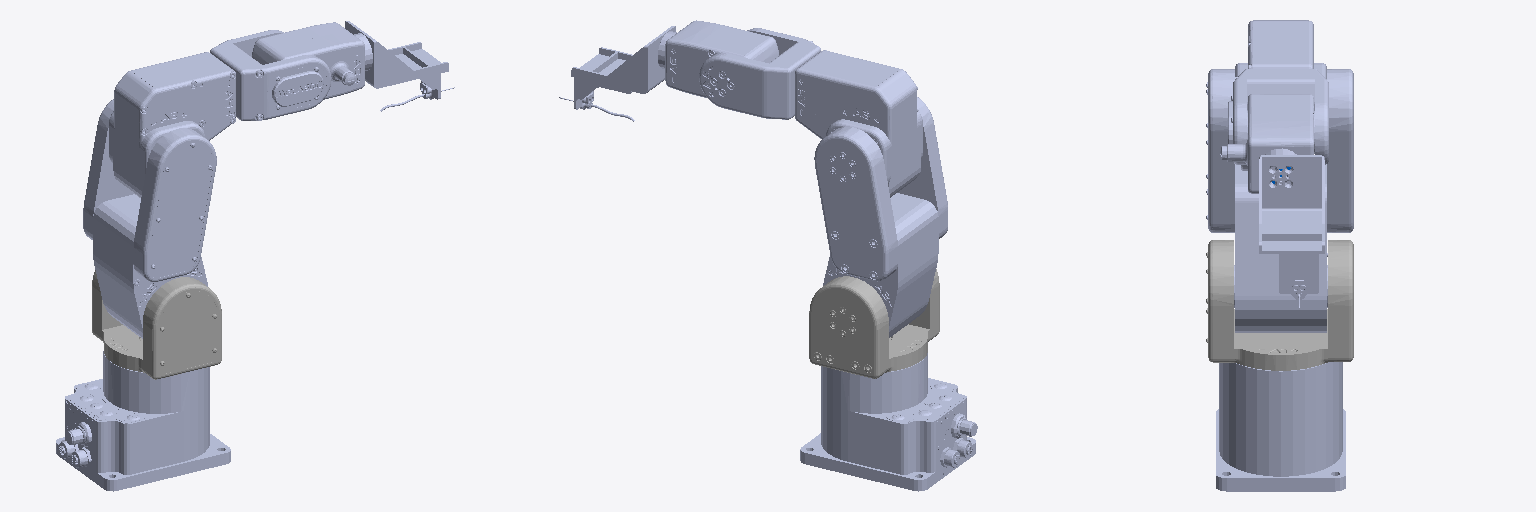
URDF robot description (Meca_500_urdf-R2):
<?xml version="1.0" encoding="utf-8"?>
<!-- This URDF was automatically created by SolidWorks to URDF Exporter! Originally created by [author] ([email redacted]) 
     Commit Version: 1.6.0-4-g7f85cfe  Build Version: 1.6.7995.38578
     For more information, please see http://wiki.ros.org/sw_urdf_exporter -->
<robot
  name="Meca_500_urdf-R2">
  <link
    name="base_link">
    <inertial>
      <origin
        xyz="-0.0109725926516317 -3.46278567973224E-05 0.0406988742963083"
        rpy="0 0 0" />
      <mass
        value="0.679568964786532" />
      <inertia
        ixx="0.000791499105710204"
        ixy="-1.53445323469656E-06"
        ixz="-9.63525565936512E-05"
        iyy="0.00102263165745737"
        iyz="-8.71161209217454E-08"
        izz="0.000929221686108281" />
    </inertial>
    <visual>
      <origin
        xyz="0 0 0"
        rpy="0 0 0" />
      <geometry>
        <mesh
          filename="package://Meca_500_urdf-R2/meshes/base_link.STL" />
      </geometry>
      <material
        name="">
        <color
          rgba="0.792156862745098 0.819607843137255 0.933333333333333 1" />
      </material>
    </visual>
    <collision>
      <origin
        xyz="0 0 0"
        rpy="0 0 0" />
      <geometry>
        <mesh
          filename="package://Meca_500_urdf-R2/meshes/base_link.STL" />
      </geometry>
    </collision>
  </link>
  <link
    name="Joint 1">
    <inertial>
      <origin
        xyz="2.59955725218788E-07 0.0450294391279362 0.0425774807786145"
        rpy="0 0 0" />
      <mass
        value="3.11068100178968E-05" />
      <inertia
        ixx="4.26029818725007E-11"
        ixy="7.2157560582102E-15"
        ixz="-1.23495683143256E-15"
        iyy="5.71232812132584E-11"
        iyz="5.68938761738752E-16"
        izz="4.26011049884299E-11" />
    </inertial>
    <visual>
      <origin
        xyz="0 0 0"
        rpy="0 0 0" />
      <geometry>
        <mesh
          filename="package://Meca_500_urdf-R2/meshes/Joint 1.STL" />
      </geometry>
      <material
        name="">
        <color
          rgba="0.749019607843137 0.749019607843137 0.749019607843137 1" />
      </material>
    </visual>
    <collision>
      <origin
        xyz="0 0 0"
        rpy="0 0 0" />
      <geometry>
        <mesh
          filename="package://Meca_500_urdf-R2/meshes/Joint 1.STL" />
      </geometry>
    </collision>
  </link>
  <joint
    name="joint1"
    type="revolute">
    <origin
      xyz="0 0 0.09"
      rpy="0 0 0" />
    <parent
      link="base_link" />
    <child
      link="Joint 1" />
    <axis
      xyz="0 0 -1" />
    <limit
      lower="-3.054"
      upper="3.054"
      effort="8"
      velocity="2.62" />
  </joint>
  <link
    name="joint 2">
    <inertial>
      <origin
        xyz="4.45170865147998E-07 -0.134998467546097 0.0468908327323897"
        rpy="0 0 0" />
      <mass
        value="1.04498871300878E-06" />
      <inertia
        ixx="1.26193540310527E-12"
        ixy="2.27190794086569E-15"
        ixz="2.04571838642606E-17"
        iyy="1.27062997059495E-12"
        iyz="6.77569314255402E-17"
        izz="2.52652987744516E-12" />
    </inertial>
    <visual>
      <origin
        xyz="0 0 0"
        rpy="0 0 0" />
      <geometry>
        <mesh
          filename="package://Meca_500_urdf-R2/meshes/joint 2.STL" />
      </geometry>
      <material
        name="">
        <color
          rgba="0.792156862745098 0.819607843137255 0.933333333333333 1" />
      </material>
    </visual>
    <collision>
      <origin
        xyz="0 0 0"
        rpy="0 0 0" />
      <geometry>
        <mesh
          filename="package://Meca_500_urdf-R2/meshes/joint 2.STL" />
      </geometry>
    </collision>
  </link>
  <joint
    name="joint2"
    type="revolute">
    <origin
      xyz="0 0 0.045"
      rpy="-1.5707963267949 0 0" />
    <parent
      link="Joint 1" />
    <child
      link="joint 2" />
    <axis
      xyz="0.0042014780162664 0 -0.999991173752288" />
    <limit
      lower="-1.221"
      upper="1.57"
      effort="8"
      velocity="2.62" />
  </joint>
  <link
    name="joint 3">
    <inertial>
      <origin
        xyz="0.0135354032001702 0.00944289577089366 -0.000217016596164697"
        rpy="0 0 0" />
      <mass
        value="0.374066907571865" />
      <inertia
        ixx="0.000286509634935843"
        ixy="-7.47439512312064E-05"
        ixz="-4.0271121494669E-06"
        iyy="0.000366719487688141"
        iyz="-8.36688974073381E-07"
        izz="0.000467308668091846" />
    </inertial>
    <visual>
      <origin
        xyz="0 0 0"
        rpy="0 0 0" />
      <geometry>
        <mesh
          filename="package://Meca_500_urdf-R2/meshes/joint 3.STL" />
      </geometry>
      <material
        name="">
        <color
          rgba="0.792156862745098 0.819607843137255 0.933333333333333 1" />
      </material>
    </visual>
    <collision>
      <origin
        xyz="0 0 0"
        rpy="0 0 0" />
      <geometry>
        <mesh
          filename="package://Meca_500_urdf-R2/meshes/joint 3.STL" />
      </geometry>
    </collision>
  </link>
  <joint
    name="joint3"
    type="revolute">
    <origin
      xyz="0 -0.135 0"
      rpy="0 0 -1.5708" />
    <parent
      link="joint 2" />
    <child
      link="joint 3" />
    <axis
      xyz="0 0 1" />
    <limit
      lower="-2.356"
      upper="1.221"
      effort="8"
      velocity="3.141" />
  </joint>
  <link
    name="joint 4">
    <inertial>
      <origin
        xyz="-0.000441520439316889 -0.0222202334471038 0.0590314255012927"
        rpy="0 0 0" />
      <mass
        value="2.47385882658862E-05" />
      <inertia
        ixx="1.67083069930542E-11"
        ixy="4.09830001639555E-16"
        ixz="-1.65644270357971E-16"
        iyy="1.98526405634069E-11"
        iyz="5.33957075787515E-15"
        izz="1.60462056103317E-11" />
    </inertial>
    <visual>
      <origin
        xyz="0 0 0"
        rpy="0 0 0" />
      <geometry>
        <mesh
          filename="package://Meca_500_urdf-R2/meshes/joint 4.STL" />
      </geometry>
      <material
        name="">
        <color
          rgba="0.792156862745098 0.819607843137255 0.933333333333333 1" />
      </material>
    </visual>
    <collision>
      <origin
        xyz="0 0 0"
        rpy="0 0 0" />
      <geometry>
        <mesh
          filename="package://Meca_500_urdf-R2/meshes/joint 4.STL" />
      </geometry>
    </collision>
  </link>
  <joint
    name="joint4"
    type="revolute">
    <origin
      xyz="0.037999999999999 0.0615000000000004 0"
      rpy="-1.5707963267949 0 0" />
    <parent
      link="joint 3" />
    <child
      link="joint 4" />
    <axis
      xyz="0 0 -1" />
    <limit
      lower="-2.967"
      upper="2.967"
      effort="8"
      velocity="5.236" />
  </joint>
  <link
    name="Joint 5">
    <inertial>
      <origin
        xyz="-3.24650848471109E-06 0.021035700815464 -0.000373731207070131"
        rpy="0 0 0" />
      <mass
        value="0.170739355398552" />
      <inertia
        ixx="0.00012857340395589"
        ixy="9.09086598001449E-10"
        ixz="3.34007889091522E-10"
        iyy="5.6926439828127E-05"
        iyz="7.83468804468554E-07"
        izz="0.000124001479243261" />
    </inertial>
    <visual>
      <origin
        xyz="0 0 0"
        rpy="0 0 0" />
      <geometry>
        <mesh
          filename="package://Meca_500_urdf-R2/meshes/Joint 5.STL" />
      </geometry>
      <material
        name="">
        <color
          rgba="0.792156862745098 0.819607843137255 0.933333333333333 1" />
      </material>
    </visual>
    <collision>
      <origin
        xyz="0 0 0"
        rpy="0 0 0" />
      <geometry>
        <mesh
          filename="package://Meca_500_urdf-R2/meshes/Joint 5.STL" />
      </geometry>
    </collision>
  </link>
  <joint
    name="joint5"
    type="revolute">
    <origin
      xyz="0 0 0.0585"
      rpy="1.5708 0 0" />
    <parent
      link="joint 4" />
    <child
      link="Joint 5" />
    <axis
      xyz="0 0 1" />
    <limit
      lower="-2.007"
      upper="2.007"
      effort="8"
      velocity="5.236" />
  </joint>
  <link
    name="Joint 6">
    <inertial>
      <origin
        xyz="7.7715611723761E-16 4.21936767723738E-16 -0.0220973177991802"
        rpy="0 0 0" />
      <mass
        value="0.0944639400304876" />
      <inertia
        ixx="1.41370013471337E-05"
        ixy="2.24632303291947E-08"
        ixz="4.5012231119807E-21"
        iyy="1.41988373153341E-05"
        iyz="4.00940575698352E-20"
        izz="1.00774973694868E-05" />
    </inertial>
    <visual>
      <origin
        xyz="0 0 0"
        rpy="0 0 0" />
      <geometry>
        <mesh
          filename="package://Meca_500_urdf-R2/meshes/Joint 6.STL" />
      </geometry>
      <material
        name="">
        <color
          rgba="0 0.501960784313725 1 1" />
      </material>
    </visual>
    <collision>
      <origin
        xyz="0 0 0"
        rpy="0 0 0" />
      <geometry>
        <mesh
          filename="package://Meca_500_urdf-R2/meshes/Joint 6.STL" />
      </geometry>
    </collision>
  </link>
  <joint
    name="joint6"
    type="revolute">
    <origin
      xyz="0 0.07 0"
      rpy="1.5708 0 3.1416" />
    <parent
      link="Joint 5" />
    <child
      link="Joint 6" />
    <axis
      xyz="0 0 1" />
    <limit
      lower="-6.283"
      upper="6.283"
      effort="8"
      velocity="8.727" />
  </joint>
  <link
    name="Needle tip">
    <inertial>
      <origin
        xyz="0.0347344445350091 -0.00374194889796238 0.0593600383669868"
        rpy="0 0 0" />
      <mass
        value="0.0212500714187753" />
      <inertia
        ixx="1.72298495867314E-05"
        ixy="3.3165728409469E-07"
        ixz="-5.31858512593133E-06"
        iyy="1.70489918204971E-05"
        iyz="5.55202018835342E-07"
        izz="8.64592251603609E-06" />
    </inertial>
    <visual>
      <origin
        xyz="0 0 0"
        rpy="0 0 0" />
      <geometry>
        <mesh
          filename="package://Meca_500_urdf-R2/meshes/Needle tip.STL" />
      </geometry>
      <material
        name="">
        <color
          rgba="0.792156862745098 0.819607843137255 0.933333333333333 1" />
      </material>
    </visual>
    <collision>
      <origin
        xyz="0 0 0"
        rpy="0 0 0" />
      <geometry>
        <mesh
          filename="package://Meca_500_urdf-R2/meshes/Needle tip.STL" />
      </geometry>
    </collision>
  </link>
  <joint
    name="Needle tip"
    type="fixed">
    <origin
      xyz="0.05788 0.0125 0.09155"
      rpy="3.1416 0 -3.1416" />
    <parent
      link="Joint 6" />
    <child
      link="Needle tip" />
    <axis
      xyz="0 0 0" />
  </joint>
</robot>

--- Facts derived from the render (not from the file) ---
Views: 3 orthographic renders of the robot side by side, from view 1: azimuth 30°, elevation 25°; view 2: azimuth 150°, elevation 25°; view 3: azimuth 270°, elevation 25°.
Model Meca_500_urdf-R2 with 8 links and 7 joints (6 revolute, 1 fixed), rooted at base_link, posed every joint at zero.
Links seen in each view (by area): view 1: joint 2, base_link, joint 3, Joint 1, joint 4, Joint 5, Needle tip; view 2: joint 2, base_link, joint 3, Joint 1, joint 4, Joint 5, Needle tip; view 3: base_link, joint 2, Joint 1, Needle tip, Joint 5, joint 4, joint 3.
Boxes of the visible links, x1,y1,x2,y2 form: joint 2: (83,99,216,338); base_link: (56,351,230,491); joint 3: (109,52,235,197); Joint 1: (92,270,221,379); joint 4: (210,30,331,120); Joint 5: (252,22,372,99); Needle tip: (345,21,454,111); joint 2: (814,97,947,337); base_link: (800,353,977,491); joint 3: (795,50,922,197); Joint 1: (809,269,939,378); joint 4: (699,28,820,119); Joint 5: (658,20,778,97); Needle tip: (559,26,675,121); base_link: (1216,362,1345,491); joint 2: (1206,69,1353,332); Joint 1: (1206,240,1353,370); Needle tip: (1259,155,1324,307); Joint 5: (1220,94,1314,193); joint 4: (1228,69,1328,164); joint 3: (1235,20,1326,170).
Bounding box of the posed robot: 0.3675 × 0.1014 × 0.3305 m (x, y, z).
8 mesh visuals loaded from 8 distinct referenced files (8 binary STL).